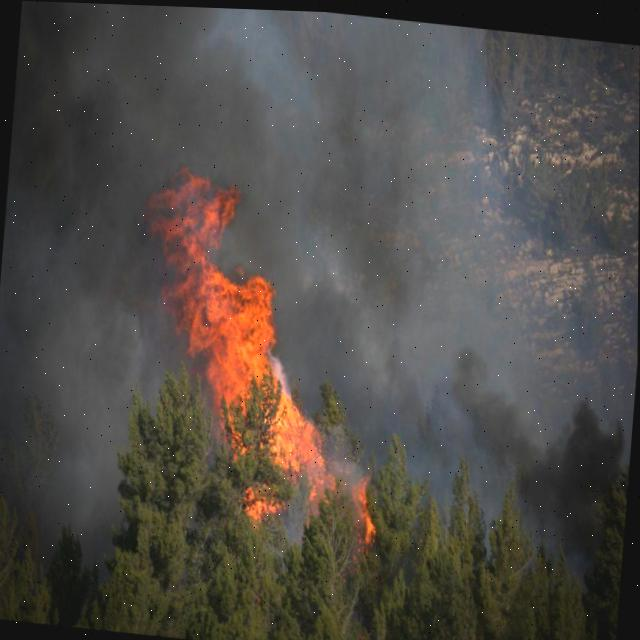fire: (149, 169, 277, 409), (269, 386, 336, 513)
smoke: (236, 184, 626, 576), (0, 1, 168, 491), (153, 5, 486, 205)
